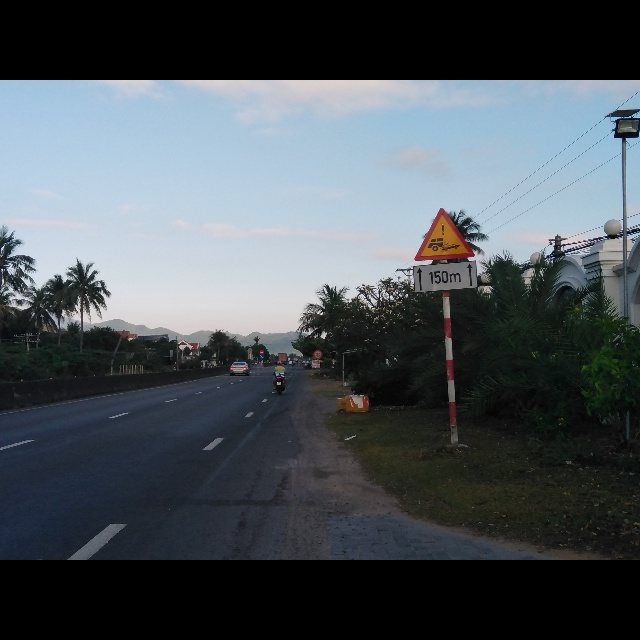Đoạn đường hay xảy ra tai nạn: (414, 206, 475, 262)
